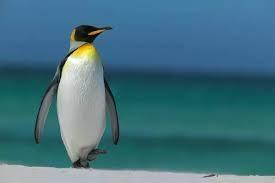king: (23, 16, 133, 179)
